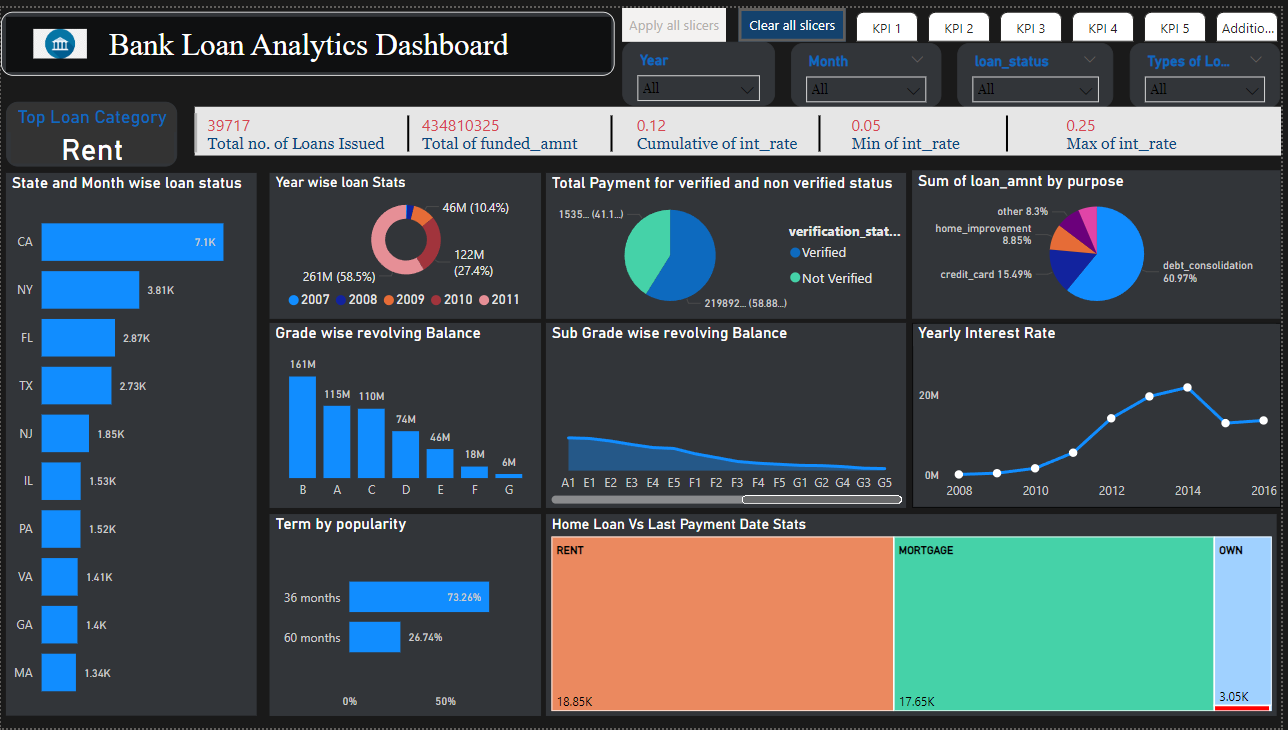

This screenshot's page, from the dashboard's own definition file:
{"tool":"tableau","page":{"name":"Bank AnalysisDashboard","canvas":[1000,1000],"units":"permille","ordinal":0},"visuals":[{"type":"filter","title":"KPI-1","param":"[federated.0pndipg0a48y3x13emsfd06uxpvv].[none:loan_status:nk]","box":[467.6,7,97.2,123.1]},{"type":"image","param":"Image/bank1.jpg","box":[9.1,8.1,104.4,170.7]},{"type":"filter","title":"KPI-1","param":"[federated.0pndipg0a48y3x13emsfd06uxpvv].[yr:issue_d:ok]","box":[711.3,9.3,96,108]},{"type":"filter","title":"KPI-1","param":"[federated.0pndipg0a48y3x13emsfd06uxpvv].[none:purpose:nk]","box":[594.2,10.5,96.6,63.9]},{"type":"text","box":[115.9,11.6,347.6,97.6]},{"type":"worksheet","title":"KPI-1","mark":"Bar","rows":["loan_amnt"],"cols":["issue_d"],"box":[169,141.7,349.4,380.9]},{"type":"worksheet","title":"KPI-2","mark":"Automatic","rows":["revol_bal"],"cols":["grade","sub_grade"],"box":[529.3,144,463.5,376.3]},{"type":"dashboard-object","box":[178.6,146.3,56.7,37.2]},{"type":"dashboard-object","box":[529.9,151,70.6,30.2]},{"type":"worksheet","title":"Balance1","mark":"Automatic","box":[3,175.4,136.4,477.4]},{"type":"legend","title":"KPI-1","param":"[federated.0pndipg0a48y3x13emsfd06uxpvv].[none:loan_status:nk]","box":[267.9,194,248.6,34.8]},{"type":"parameter","param":"[Parameters].[Parameter 1]","box":[5.4,479.7,96.6,55.8]},{"type":"worksheet","title":"KPI-4","mark":"Automatic","rows":["issue_d","loan_status"],"cols":["addr_state"],"box":[4.2,541.2,373.6,455.3]},{"type":"worksheet","title":"KPI-3","mark":"Pie","rows":["Calculation_573646043721523200","Calculation_573646043721523200"],"box":[383.8,541.2,289.7,447.2]},{"type":"dashboard-object","box":[9.7,547,25.9,32.5]},{"type":"worksheet","title":"KPI-5","mark":"Automatic","box":[684.4,547,314.4,453]},{"type":"legend","title":"KPI-3","param":"[federated.0pndipg0a48y3x13emsfd06uxpvv].[none:verification_status:nk]","box":[395.3,634.1,86.3,76.7]}]}

Visuals, with their boxes on the dashboard's canvas, which has no fixed pixel size, in thousandths of its width and height (x1, y1, x2, y2). These are canvas units, not pixel positions in the 1288x730 screenshot, which may show the page scaled, cropped or inside an application window:
"KPI-1" filter: Rect(468, 7, 565, 130)
image: Rect(9, 8, 114, 179)
"KPI-1" filter: Rect(711, 9, 807, 117)
"KPI-1" filter: Rect(594, 10, 691, 74)
text: Rect(116, 12, 464, 109)
"KPI-1" worksheet (Bar marks): Rect(169, 142, 518, 523)
"KPI-2" worksheet: Rect(529, 144, 993, 520)
dashboard-object: Rect(179, 146, 235, 184)
dashboard-object: Rect(530, 151, 600, 181)
"Balance1" worksheet: Rect(3, 175, 139, 653)
"KPI-1" legend: Rect(268, 194, 516, 229)
parameter: Rect(5, 480, 102, 536)
"KPI-4" worksheet: Rect(4, 541, 378, 996)
"KPI-3" worksheet (Pie marks): Rect(384, 541, 674, 988)
dashboard-object: Rect(10, 547, 36, 580)
"KPI-5" worksheet: Rect(684, 547, 999, 1000)
"KPI-3" legend: Rect(395, 634, 482, 711)
